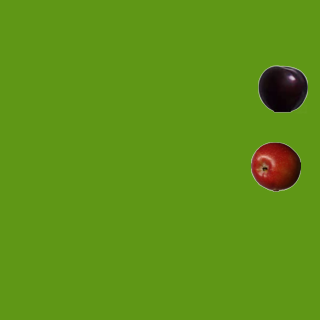Apple Braeburn: (250, 141, 300, 191)
Cherry Wax Black: (257, 63, 307, 113)
